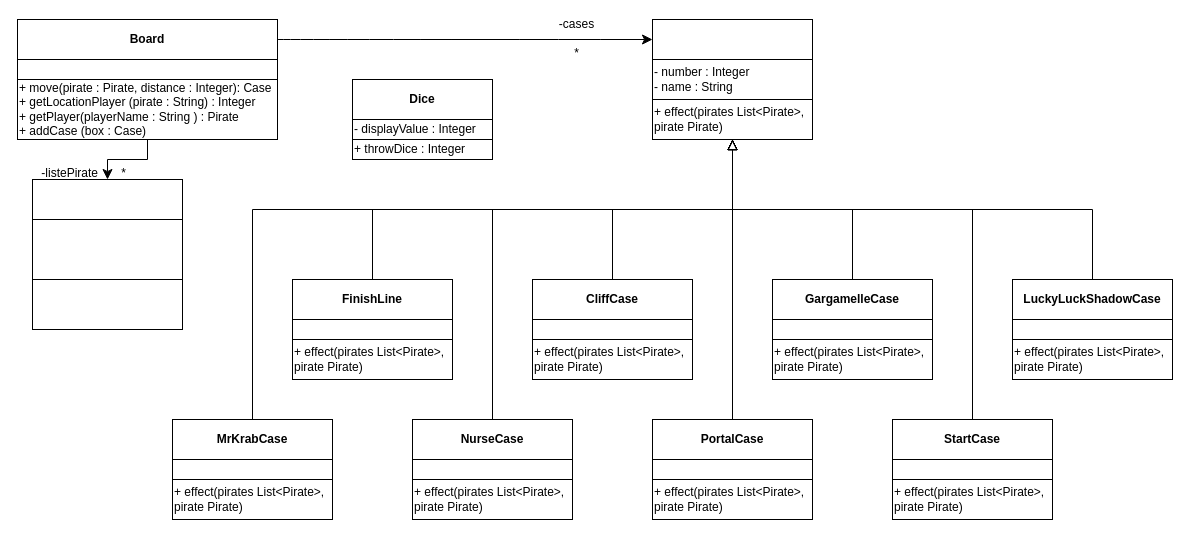
Image size: 1190x538. Some labels were removed from this diagram. The box of each missing label's shape, as (x1, y1, x2, y2) in pixels:
+ ajustHp (x : Integer) + ajustPosition (x : Integer) + isDead(): (32, 278, 182, 330)
- idPirate : Integer - position : Integer - name : String - hp : Integer: (32, 218, 182, 280)
- nbCase : Integer: (16, 58, 278, 80)
Case: (652, 18, 812, 60)
Pirate: (32, 178, 182, 220)
